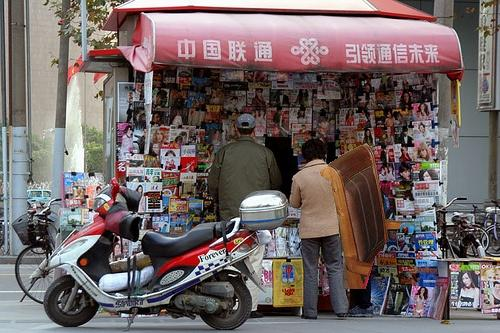tampered: (321, 144, 403, 289)
